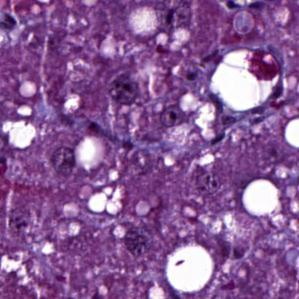ballooning: (207, 48, 282, 114)
